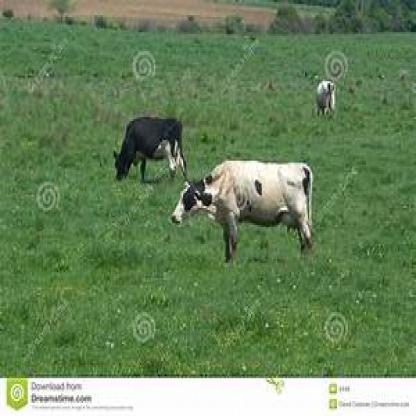cow: (167, 157, 318, 267), (111, 112, 184, 185), (316, 78, 338, 119)
